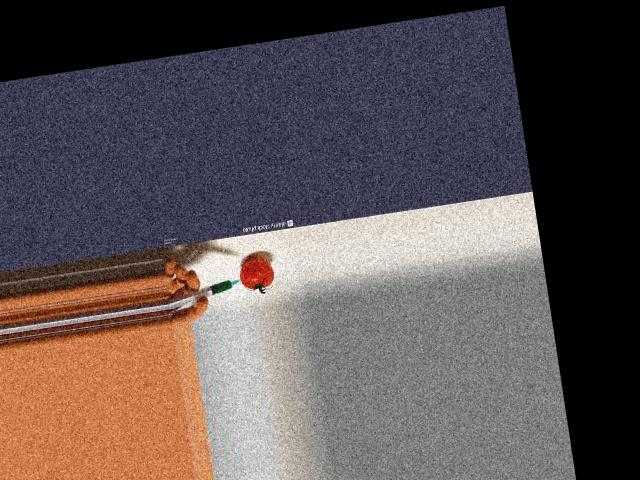tomato: (237, 255, 274, 290)
